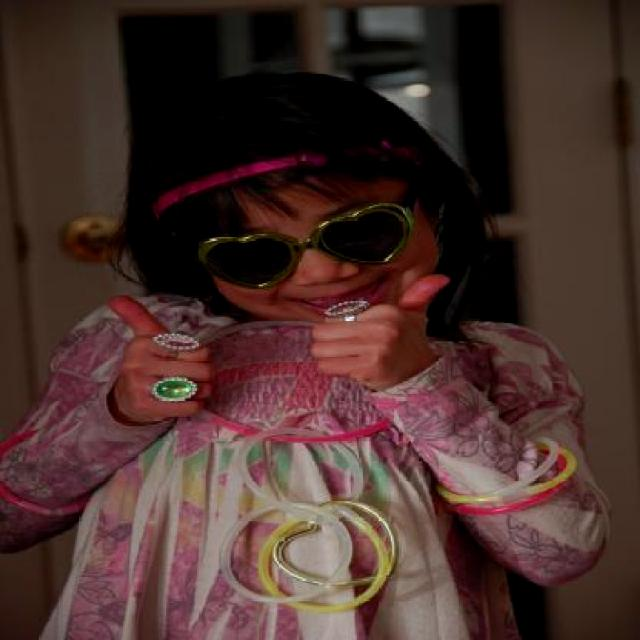glasses: (193, 178, 419, 298)
hand_noglove: (307, 272, 450, 396), (109, 285, 213, 424)
head_nohelmet: (150, 49, 413, 216)
person: (84, 52, 516, 640)
